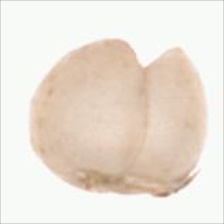L3: (112, 37, 184, 69)
L4: (29, 38, 208, 197)
